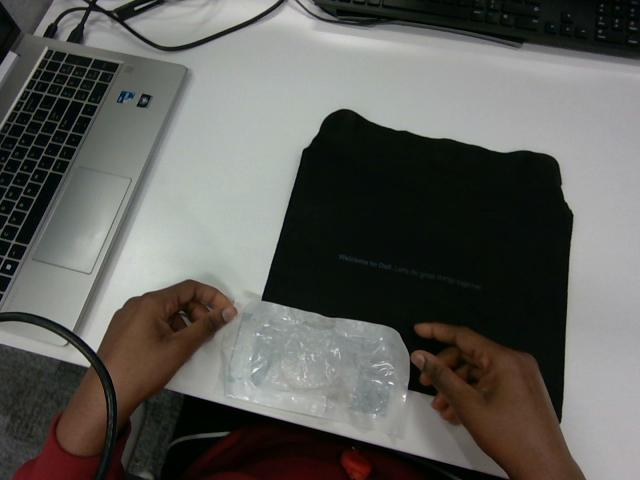gallipot: (225, 301, 409, 435)
